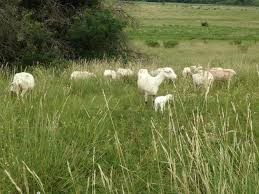sheep: (133, 64, 177, 100), (207, 62, 245, 93), (143, 90, 181, 117), (182, 66, 216, 96), (8, 71, 40, 102), (61, 67, 101, 88), (104, 63, 130, 90)
